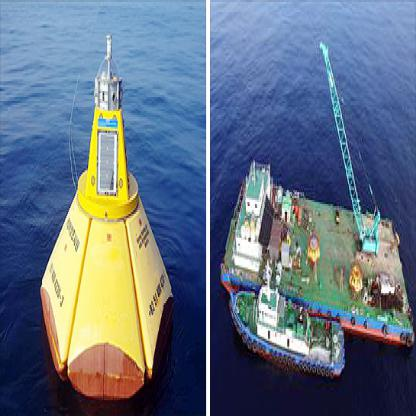buoy: (32, 14, 184, 400)
